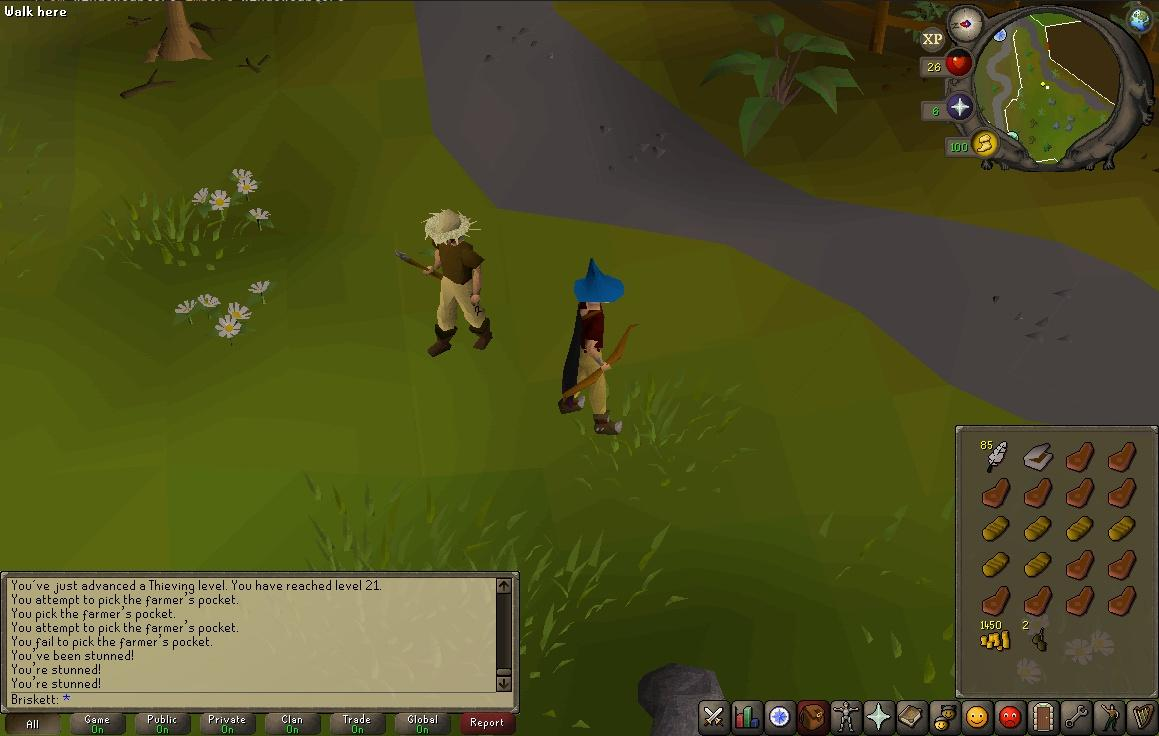Farmer: (420, 208, 494, 358)
